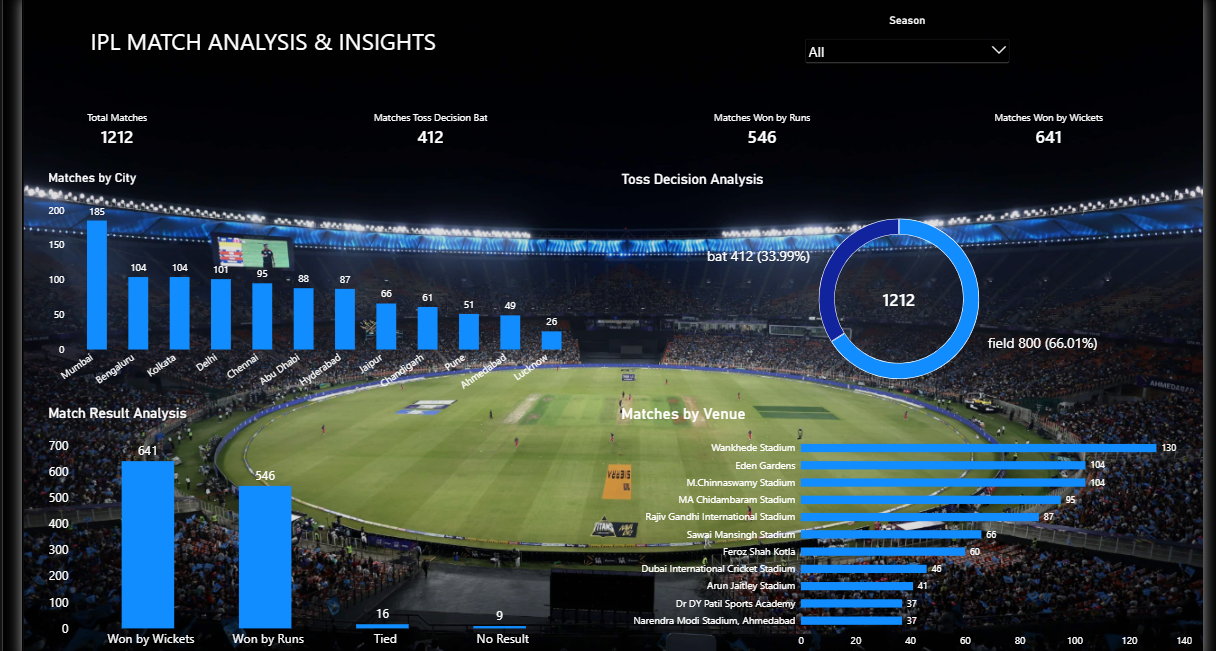

Layout of this report page (visuals, bound fields, positions):
{"tool":"powerbi","page":{"name":"Match Analysis","canvas":[1920,1080],"ordinal":2},"visuals":[{"type":"textbox","box":[10,47.5,765,62.5],"z":0},{"type":"cardVisual","fields":{"Data":["Fact_Matches.Total Matches"]},"box":[10,137.5,290,157.5],"z":1000},{"type":"cardVisual","fields":{"Data":["Fact_Matches.Matches Toss Decision Bat"]},"box":[520,137.5,290,158],"z":2000},{"type":"cardVisual","fields":{"Data":["Fact_Matches.Matches Won by Runs"]},"box":[1060,137.5,290,158],"z":3000},{"type":"cardVisual","fields":{"Data":["Fact_Matches.Matches Won by Wickets"]},"box":[1525,137.5,290,158],"z":4000},{"type":"clusteredColumnChart","title":"Matches by City","fields":{"Category":["Fact_Matches.city"],"Y":["CountNonNull(Fact_Matches.match_id)"]},"box":[27.5,267.5,895,405],"z":5000},{"type":"donutChart","title":"Toss Decision Analysis","fields":{"Category":["Fact_Matches.toss_decision"],"Y":["CountNonNull(Fact_Matches.match_id)"]},"box":[960,267.5,935,405],"z":6000},{"type":"clusteredColumnChart","title":"Match Result Analysis","fields":{"Category":["Match Win Type.Win Type"],"Y":["Fact_Matches.Match Wins by Type"]},"box":[27.5,650,895,430],"z":7000},{"type":"clusteredBarChart","title":"Matches by Venue","fields":{"Category":["Fact_Matches.venue"],"Y":["CountNonNull(Fact_Matches.match_id)"]},"box":[960,650,960,430],"z":8000},{"type":"slicer","title":"Season","fields":{"Values":["Dim_Matches.season"]},"box":[1267.5,27.5,342.5,110],"z":9000}]}

Visuals, with their boxes on the page's 1920x1080 design canvas (x1, y1, x2, y2). These are canvas units, not pixel positions in the 1216x651 screenshot, which may show the page scaled, cropped or inside an application window:
textbox: [10,48,775,110]
cardVisual - Fact_Matches.Total Matches: [10,138,300,295]
cardVisual - Fact_Matches.Matches Toss Decision Bat: [520,138,810,296]
cardVisual - Fact_Matches.Matches Won by Runs: [1060,138,1350,296]
cardVisual - Fact_Matches.Matches Won by Wickets: [1525,138,1815,296]
"Matches by City" clusteredColumnChart: [28,268,922,672]
"Toss Decision Analysis" donutChart: [960,268,1895,672]
"Match Result Analysis" clusteredColumnChart: [28,650,922,1080]
"Matches by Venue" clusteredBarChart: [960,650,1920,1080]
"Season" slicer: [1268,28,1610,138]
